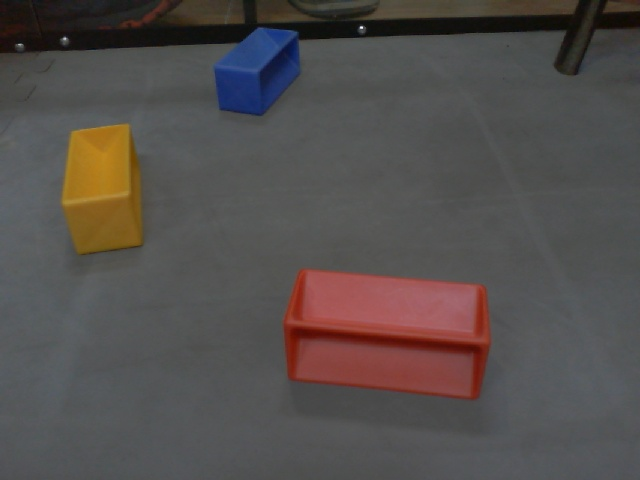BlueSample: (214, 23, 299, 117)
RedSample: (281, 266, 492, 403)
YellowSample: (59, 119, 147, 255)
